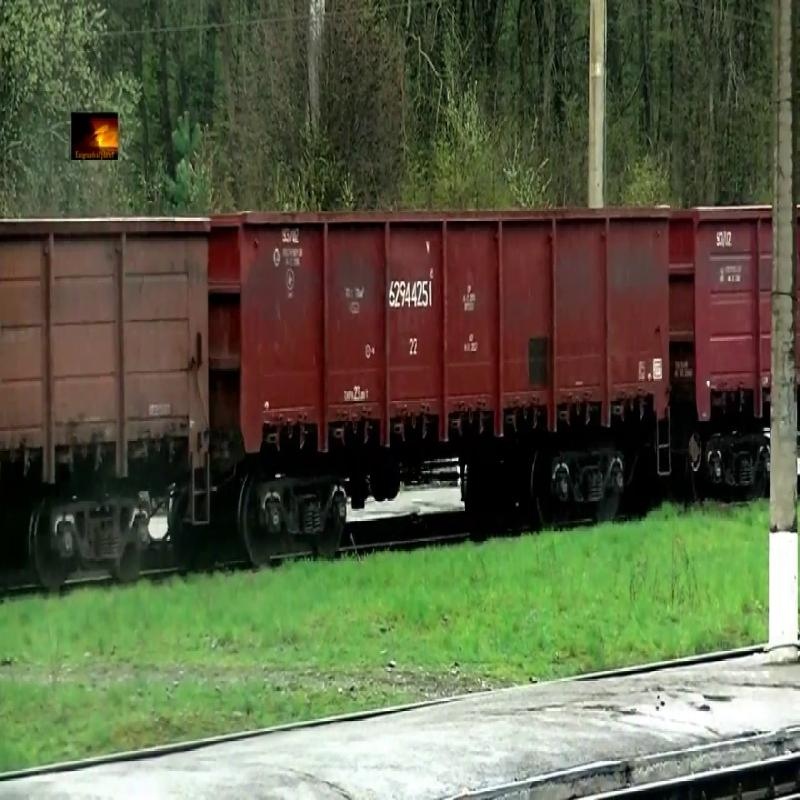train: (211, 206, 673, 458), (1, 217, 212, 493), (675, 209, 776, 427)
